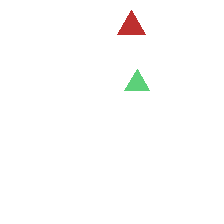triangle: (117, 10, 145, 34), (124, 69, 149, 90)
